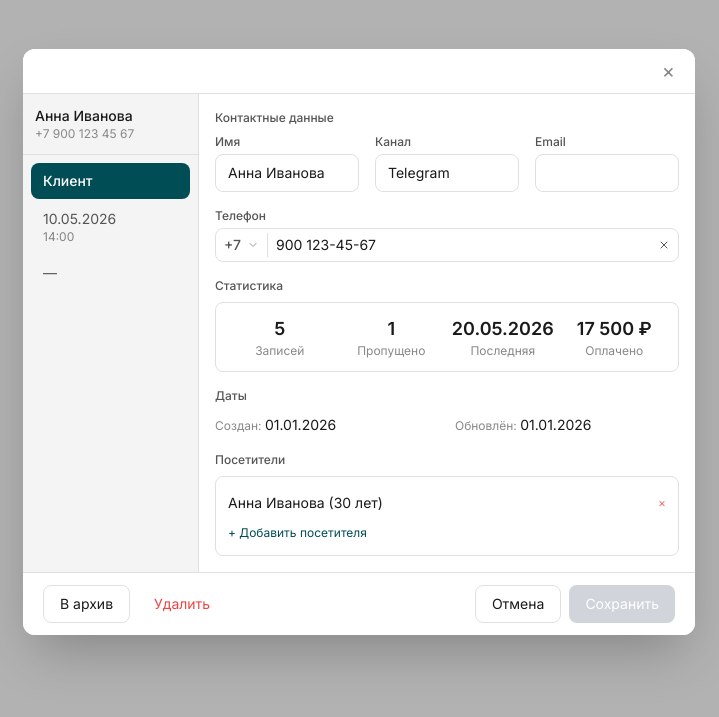
Test case: ClientCardModal ↔ ClientRecordTab integration (real components) › switching to record tab renders record data
Click on a record tab
Click the text "10.05.2026": (80, 218) [43,210,116,227]
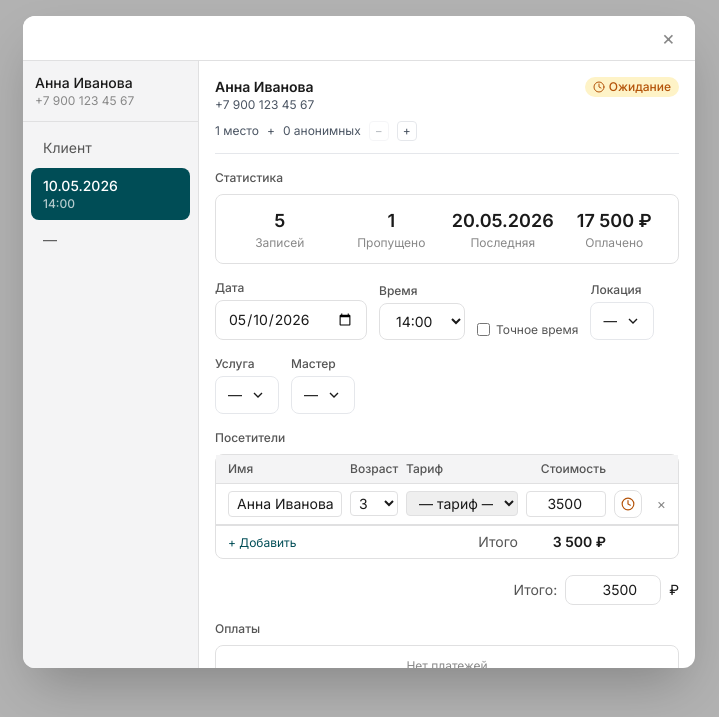
Expected: the element with test id "client-record-tab" is shown, [199,61,695,668]
Expected: the button with test id "combobox-trigger" below "Локация" is shown, [590,302,654,340]
